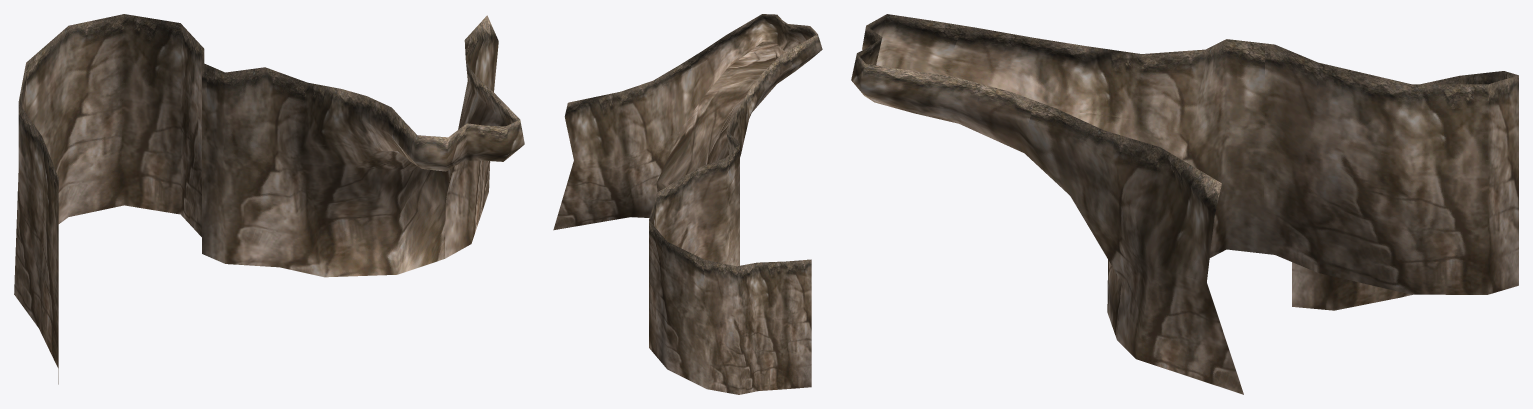
File: OVERHILL_A_01_LINE72.fbx
The picture shows the model from 3 angles, left to right: view 1: azimuth 30°, elevation 25°; view 2: azimuth 150°, elevation 25°; view 3: azimuth 270°, elevation 25°; orthographic projection. The views are drawn at different scales.
Parts seen in each view (by area): view 1: OVERHILL_A_01_LINE72; view 2: OVERHILL_A_01_LINE72; view 3: OVERHILL_A_01_LINE72.
Boxes of the visible parts, x1=… form: OVERHILL_A_01_LINE72: x1=14, y1=14, x2=524, y2=384; OVERHILL_A_01_LINE72: x1=553, y1=14, x2=822, y2=394; OVERHILL_A_01_LINE72: x1=851, y1=14, x2=1518, y2=394.
Bounding box in the file's own units: 50530 × 41763 × 64991.
Materials: 3 (3 with a texture image).
